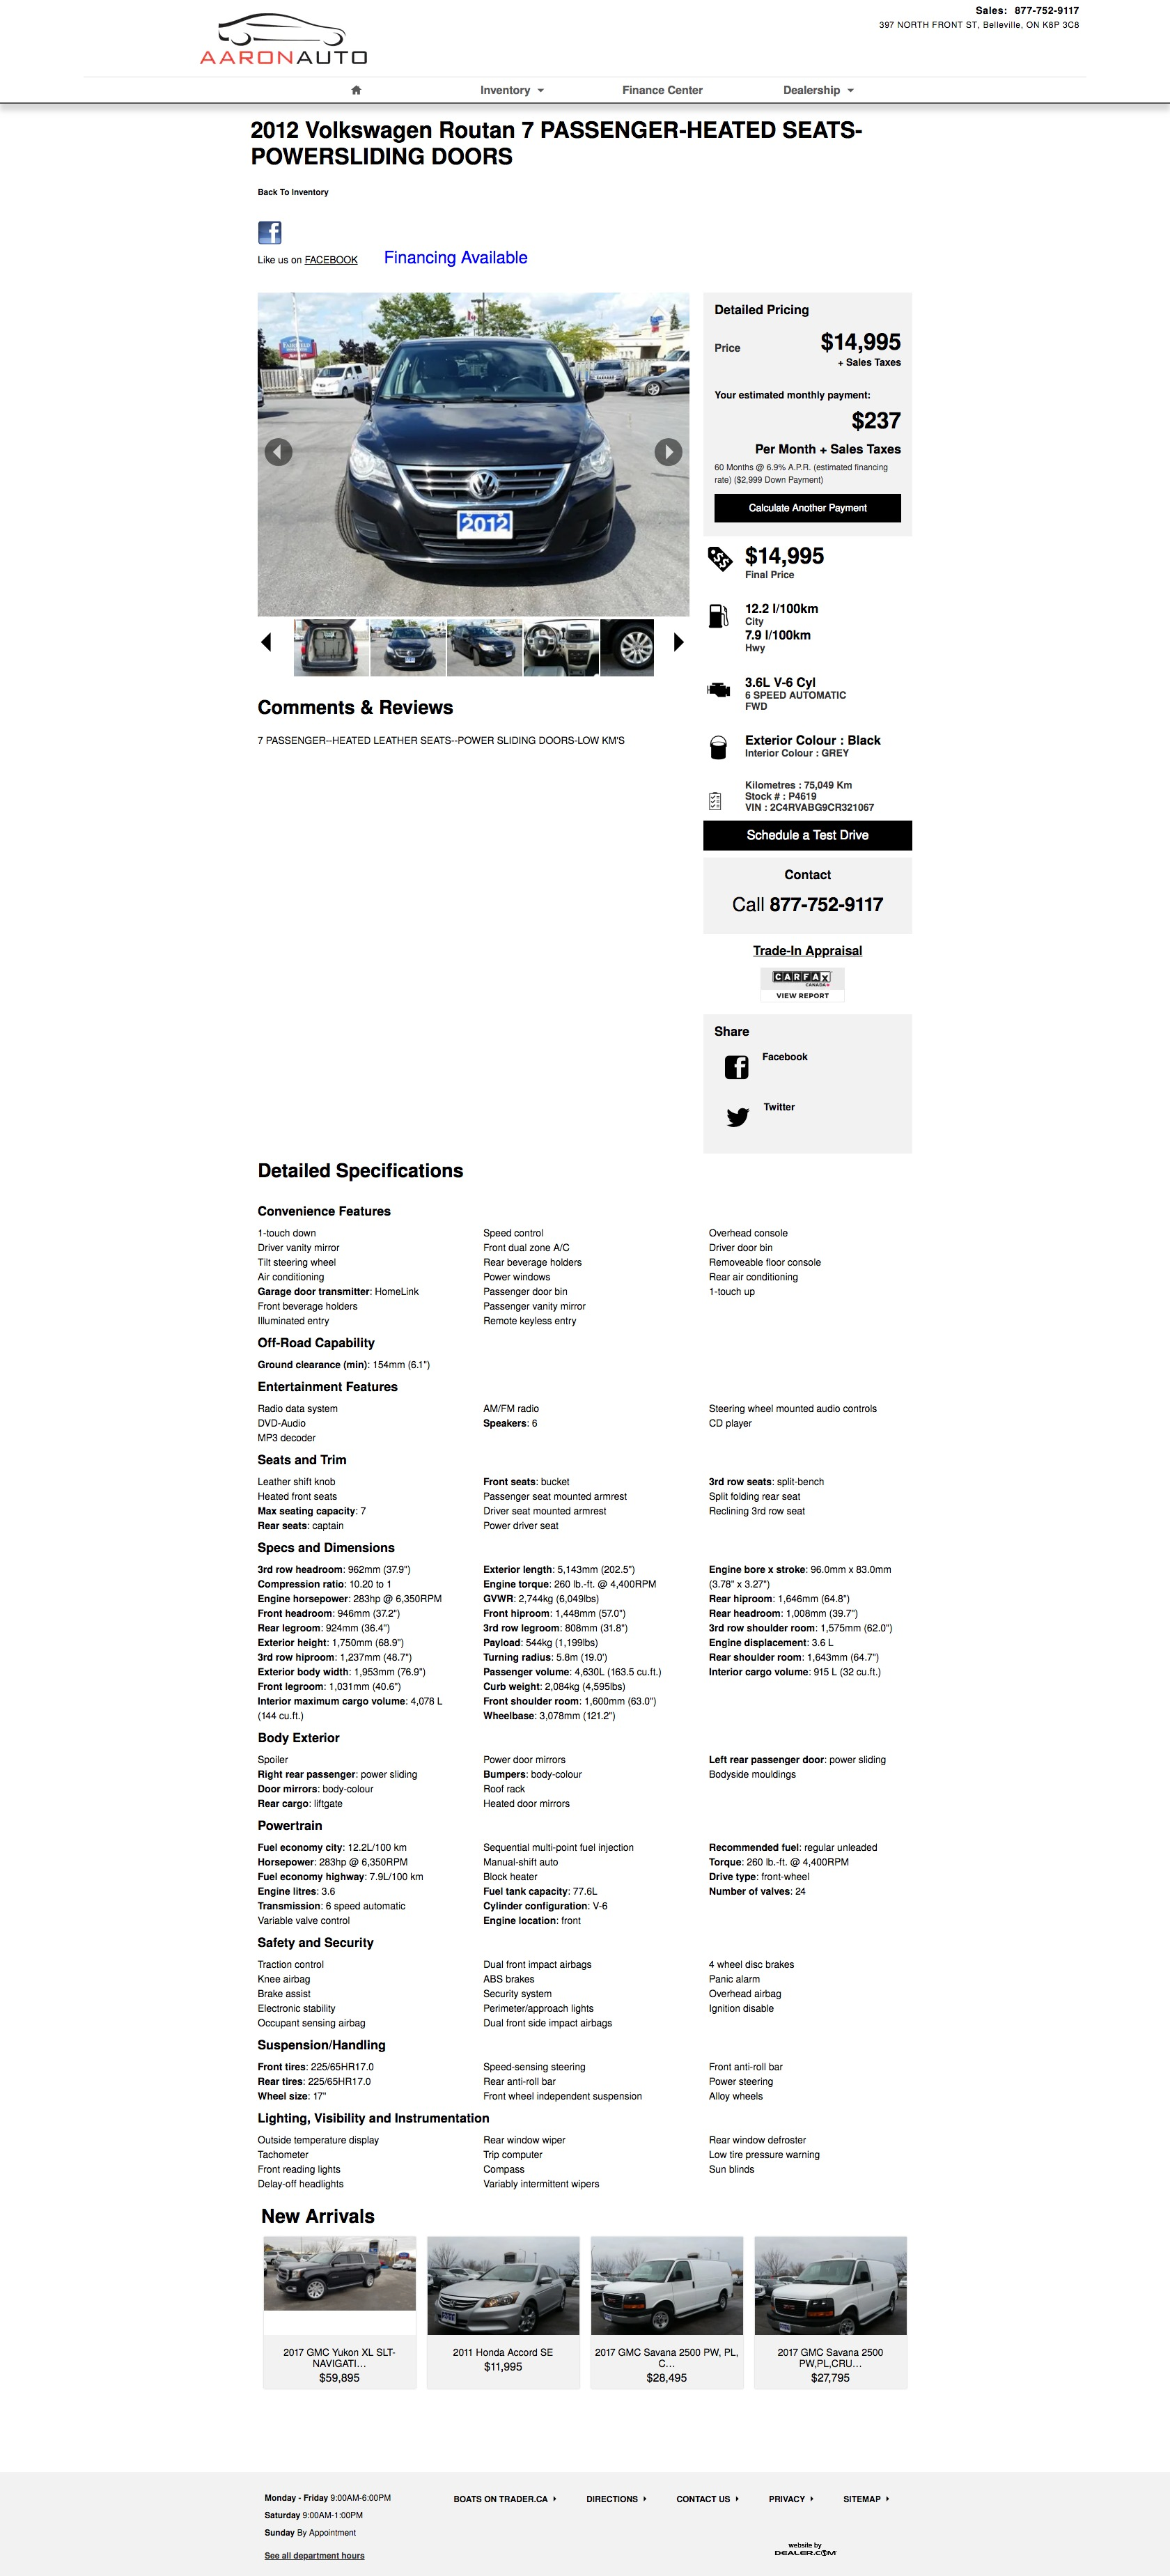car: (672, 633, 685, 652)
